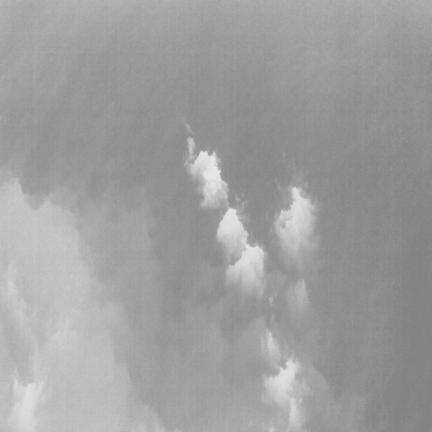flukeprints: (185, 151, 227, 208), (226, 244, 265, 298), (263, 359, 298, 407), (217, 208, 247, 262)
